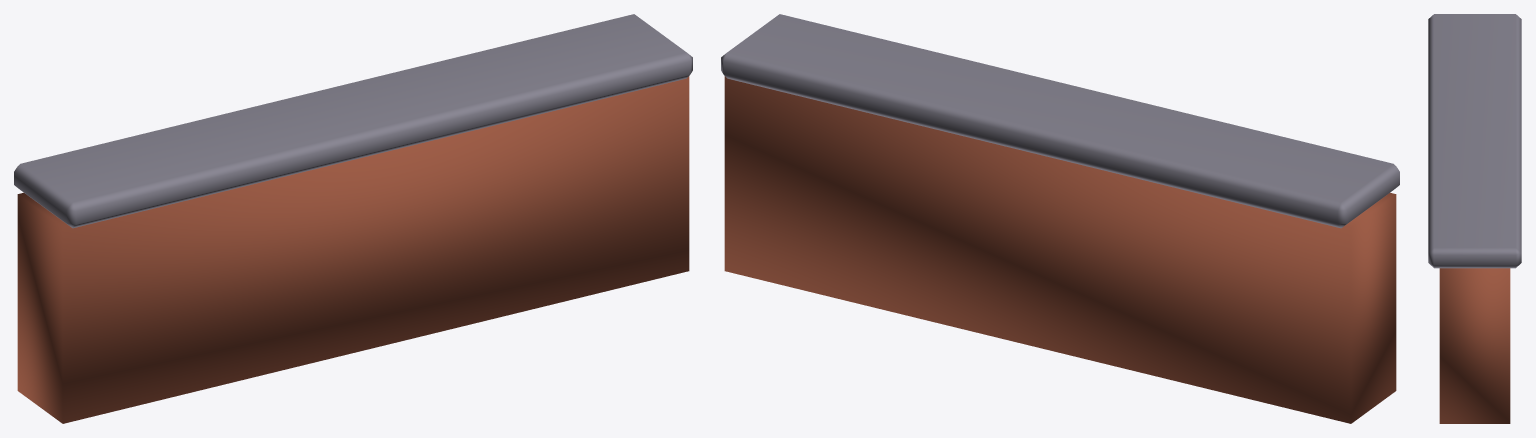
The model's file is parapet_2m.glb.
3 renders of one model, left to right at view 1: azimuth 30°, elevation 25°; view 2: azimuth 150°, elevation 25°; view 3: azimuth 270°, elevation 25°, orthographic. The views are drawn at different scales.
Parts seen in each view (by area): view 1: parapet_2m; view 2: parapet_2m; view 3: parapet_2m.
Boxes of the visible parts, box(x1,y1,x2,y2) form: parapet_2m: box(14, 14, 692, 423); parapet_2m: box(721, 14, 1399, 423); parapet_2m: box(1428, 14, 1521, 423).
Bounding box in the file's own units: 2 × 0.68 × 0.33.
